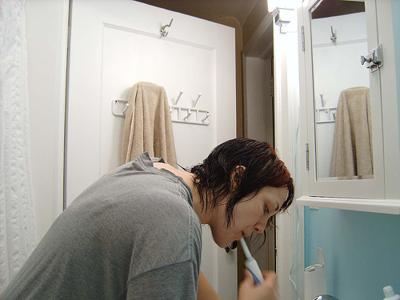person: (4, 138, 296, 300)
